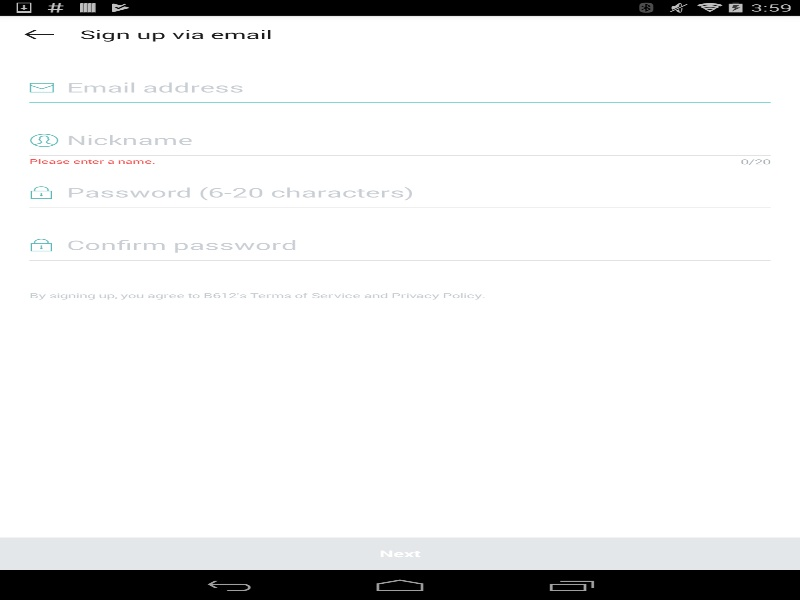Input: (66, 79, 770, 95), (66, 184, 770, 200), (66, 132, 770, 147), (66, 237, 770, 252)
